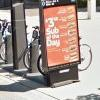Bicycle: (0, 16, 43, 79)
